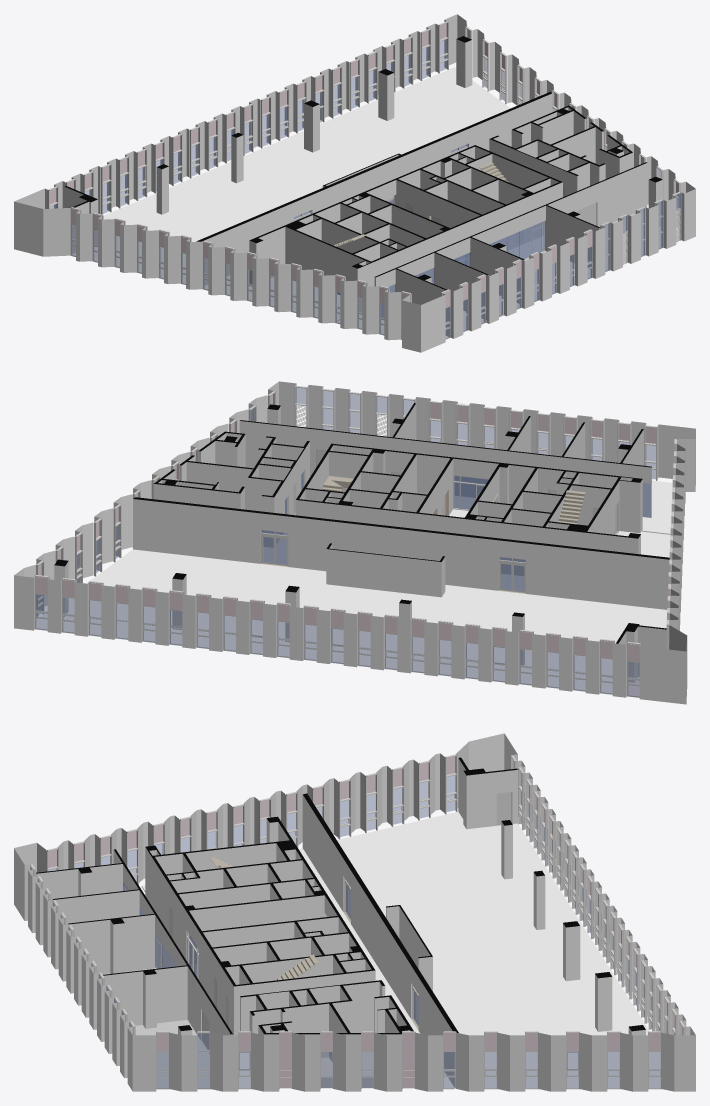
3 views of the same model, one above another, from view 1: azimuth 30°, elevation 25°; view 2: azimuth 150°, elevation 25°; view 3: azimuth 270°, elevation 25° (orthographic). The views are drawn at different scales.
Visible parts, largest first — view 1: A7_11F_Wall001, A7_11F_Exterior001, A7_11F_Floor001, A7_11F_Windows001, A7_11F_WindowFrame001, A7_11F_Glass001, A7_11F_Door001; view 2: A7_11F_Wall001, A7_11F_Exterior001, A7_11F_Floor001, A7_11F_Windows001, A7_11F_WindowFrame001, A7_11F_AutoDoor001, A7_11F_Stairs001, A7_11F_Glass001, A7_11F_Door001; view 3: A7_11F_Wall001, A7_11F_Exterior001, A7_11F_Floor001, A7_11F_WindowFrame001, A7_11F_Windows001, A7_11F_Door001, A7_11F_AutoDoor001, A7_11F_Stairs001.
Boxes of the visible parts, x1=… form: A7_11F_Wall001: x1=64, y1=36, x2=662, y2=336; A7_11F_Exterior001: x1=14, y1=14, x2=695, y2=352; A7_11F_Floor001: x1=71, y1=67, x2=678, y2=339; A7_11F_Windows001: x1=49, y1=23, x2=680, y2=339; A7_11F_WindowFrame001: x1=47, y1=21, x2=681, y2=339; A7_11F_Glass001: x1=381, y1=221, x2=544, y2=317; A7_11F_Door001: x1=68, y1=202, x2=596, y2=276; A7_11F_Wall001: x1=54, y1=403, x2=669, y2=682; A7_11F_Exterior001: x1=14, y1=381, x2=695, y2=704; A7_11F_Floor001: x1=35, y1=480, x2=672, y2=697; A7_11F_Windows001: x1=35, y1=387, x2=677, y2=697; A7_11F_WindowFrame001: x1=35, y1=385, x2=676, y2=696; A7_11F_AutoDoor001: x1=261, y1=471, x2=525, y2=592; A7_11F_Stairs001: x1=322, y1=476, x2=585, y2=524; A7_11F_Glass001: x1=455, y1=476, x2=651, y2=517; A7_11F_Door001: x1=293, y1=449, x2=617, y2=575; A7_11F_Wall001: x1=36, y1=757, x2=645, y2=1087; A7_11F_Exterior001: x1=14, y1=733, x2=695, y2=1091; A7_11F_Floor001: x1=102, y1=811, x2=661, y2=1089; A7_11F_WindowFrame001: x1=30, y1=754, x2=685, y2=1088; A7_11F_Windows001: x1=30, y1=756, x2=682, y2=1088; A7_11F_Door001: x1=125, y1=792, x2=511, y2=1049; A7_11F_AutoDoor001: x1=186, y1=878, x2=418, y2=1026; A7_11F_Stairs001: x1=210, y1=857, x2=319, y2=980.
Bounding box in the file's own units: 48.28 × 4.38 × 46.07.
